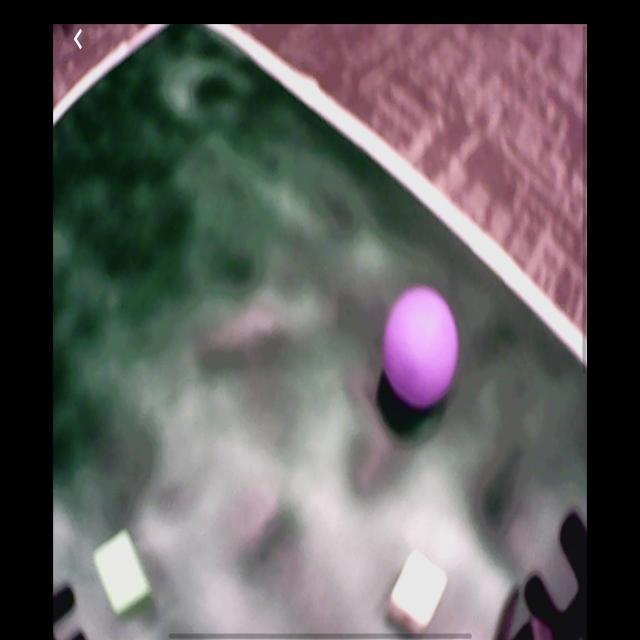ball: (386, 289, 459, 407)
